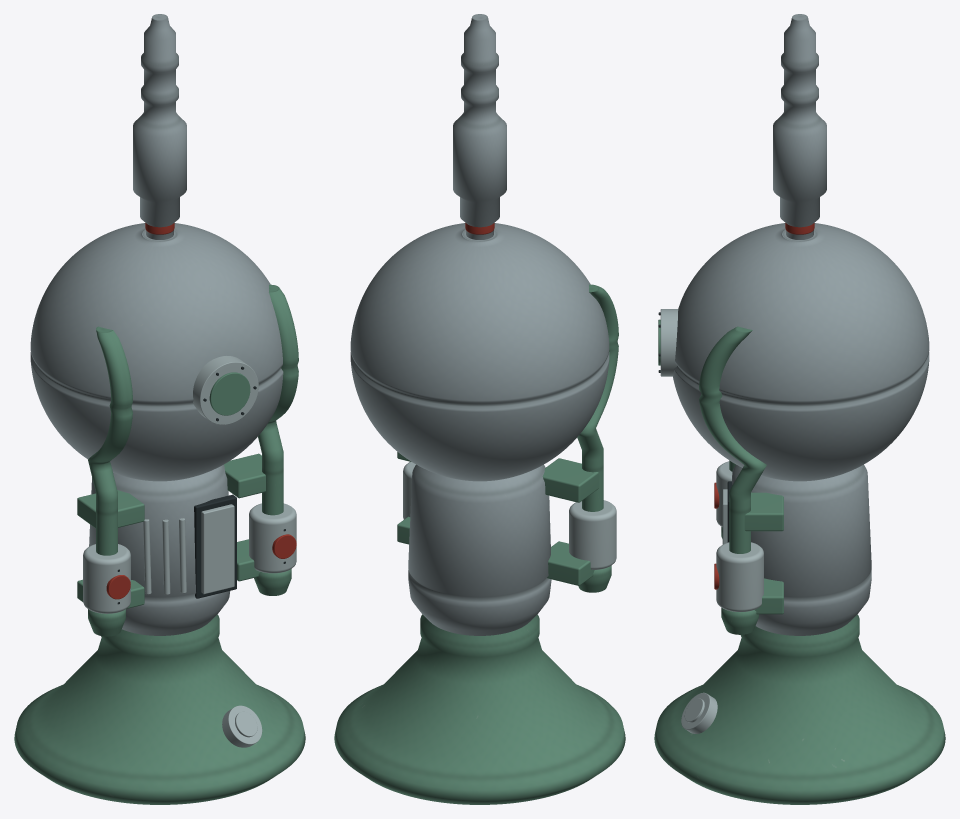
The picture shows the model from 3 angles, left to right: view 1: azimuth 30°, elevation 25°; view 2: azimuth 150°, elevation 25°; view 3: azimuth 270°, elevation 25°; orthographic projection.
Parts seen in each view (by area): view 1: RI13 spherical converter housing, RI13 flared ground foot, RI13 lower equipment drum, RI13 segmented upper probe, RI13 green side riser -1, RI13 green side riser 1, RI13 lower front panel, RI13 side service pod -1, RI13 side service pod 1, RI13 spherical front fitting bezel, RI13 riser support 1 1, RI13 lower front panel frame (+6 smaller); view 2: RI13 spherical converter housing, RI13 flared ground foot, RI13 lower equipment drum, RI13 segmented upper probe, RI13 green side riser -1, RI13 side service pod -1, RI13 riser support -1 1, RI13 riser support -1 0; view 3: RI13 spherical converter housing, RI13 flared ground foot, RI13 lower equipment drum, RI13 segmented upper probe, RI13 green side riser 1, RI13 side service pod 1, RI13 riser support 1 1, RI13 spherical front fitting bezel, RI13 foot service fitting bezel, RI13 riser support 1 0, RI13 side service pod -1.
Part boxes in pixels (x1=…): RI13 spherical converter housing: x1=30, y1=223, x2=283, y2=481; RI13 flared ground foot: x1=14, y1=614, x2=305, y2=804; RI13 lower equipment drum: x1=89, y1=464, x2=230, y2=635; RI13 segmented upper probe: x1=133, y1=14, x2=186, y2=239; RI13 green side riser -1: x1=88, y1=326, x2=132, y2=636; RI13 green side riser 1: x1=254, y1=284, x2=298, y2=595; RI13 lower front panel: x1=201, y1=504, x2=234, y2=594; RI13 side service pod -1: x1=83, y1=544, x2=130, y2=613; RI13 side service pod 1: x1=249, y1=503, x2=296, y2=573; RI13 spherical front fitting bezel: x1=193, y1=356, x2=258, y2=424; RI13 riser support 1 1: x1=224, y1=453, x2=265, y2=498; RI13 lower front panel frame: x1=194, y1=494, x2=236, y2=598; RI13 spherical converter housing: x1=350, y1=223, x2=609, y2=481; RI13 flared ground foot: x1=334, y1=614, x2=625, y2=804; RI13 lower equipment drum: x1=408, y1=464, x2=551, y2=635; RI13 segmented upper probe: x1=453, y1=14, x2=506, y2=239; RI13 green side riser -1: x1=577, y1=284, x2=618, y2=592; RI13 side service pod -1: x1=569, y1=500, x2=616, y2=569; RI13 riser support -1 1: x1=542, y1=458, x2=599, y2=502; RI13 riser support -1 0: x1=547, y1=541, x2=594, y2=585; RI13 spherical converter housing: x1=673, y1=223, x2=929, y2=481; RI13 flared ground foot: x1=654, y1=614, x2=945, y2=804; RI13 lower equipment drum: x1=732, y1=464, x2=871, y2=635; RI13 segmented upper probe: x1=773, y1=14, x2=826, y2=239; RI13 green side riser 1: x1=699, y1=326, x2=766, y2=634; RI13 side service pod 1: x1=716, y1=542, x2=763, y2=612; RI13 riser support 1 1: x1=744, y1=492, x2=783, y2=531; RI13 spherical front fitting bezel: x1=660, y1=309, x2=678, y2=376; RI13 foot service fitting bezel: x1=681, y1=692, x2=717, y2=733; RI13 riser support 1 0: x1=755, y1=578, x2=783, y2=614; RI13 side service pod -1: x1=716, y1=461, x2=732, y2=526.
Size of the model in its own units: 1.46 by 4.1 by 1.46.
8 materials, 4 textured.
